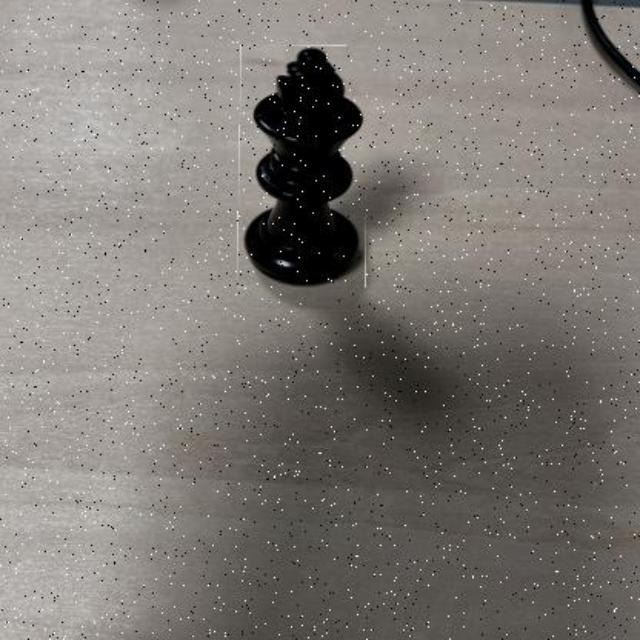black-king: (237, 46, 366, 289)
